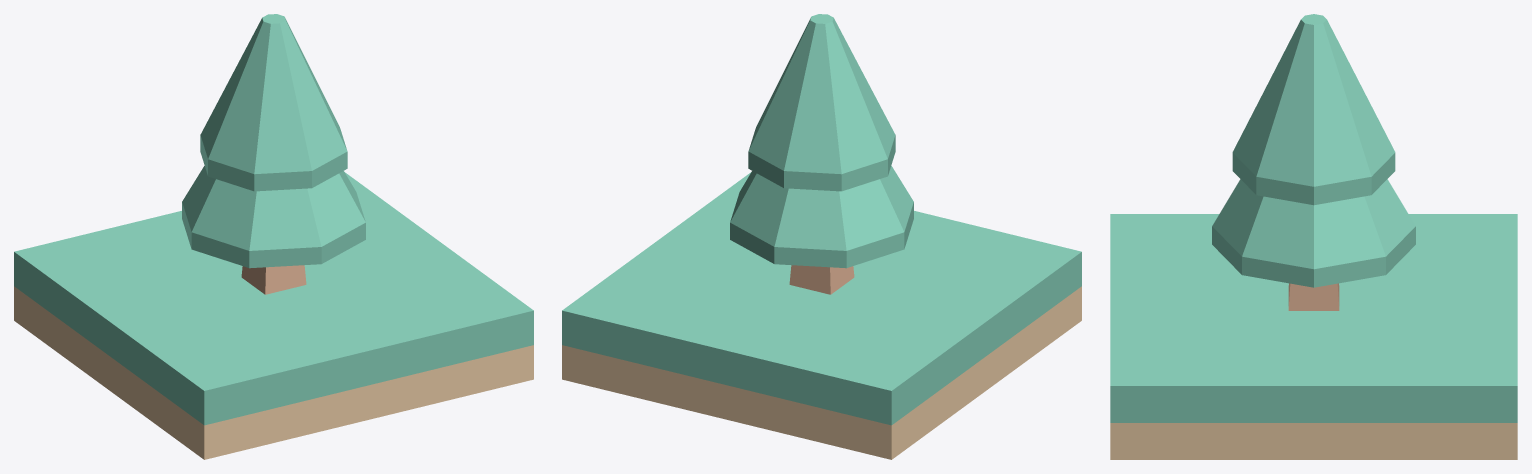
The model's file is tile_tree.gltf.
3 renders of one model, left to right at view 1: azimuth 30°, elevation 25°; view 2: azimuth 150°, elevation 25°; view 3: azimuth 270°, elevation 25°, orthographic. The views are drawn at different scales.
Parts seen in each view (by area): view 1: tile_tree, tree; view 2: tile_tree, tree; view 3: tile_tree, tree.
Boxes of the visible parts, x1,y1,x2,y2 form: tile_tree: [14, 172, 533, 459]; tree: [182, 14, 365, 294]; tile_tree: [562, 172, 1081, 459]; tree: [730, 14, 913, 294]; tile_tree: [1110, 214, 1517, 459]; tree: [1212, 14, 1415, 310].
Size of the model in its own units: 1 by 0.96 by 1.
